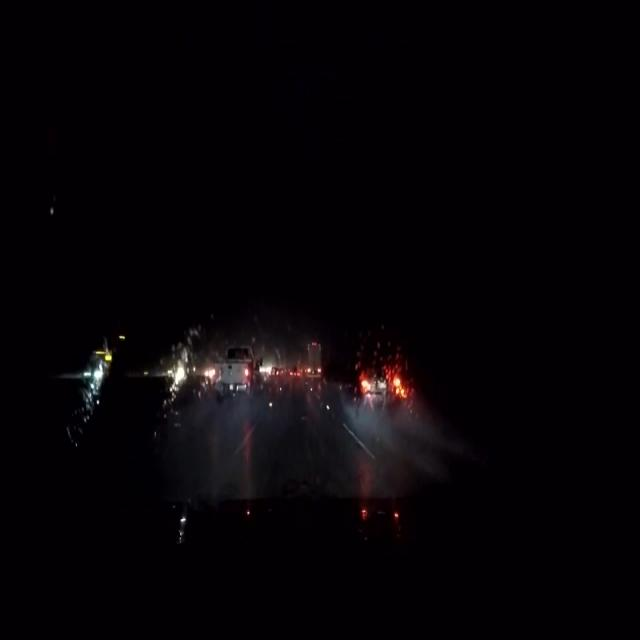Car: (343, 354, 409, 418)
